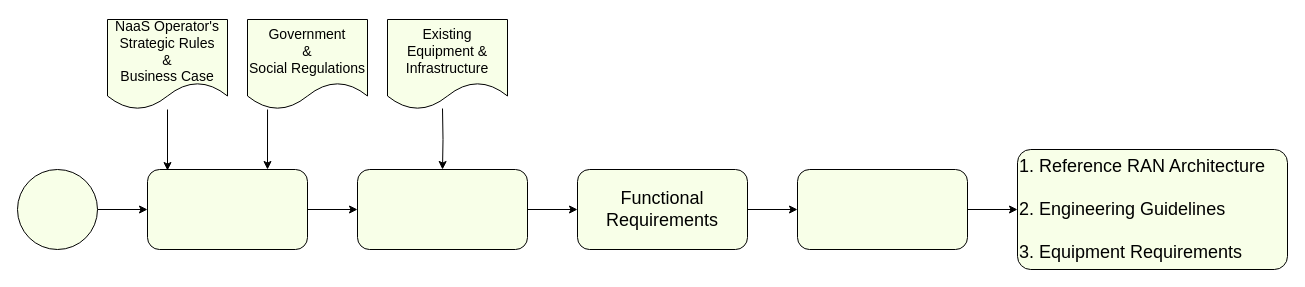
This 1305x287 diagram has some shape labels left out. Each missing label, with the box of its shape:
Engineering Guidelines: (796, 168, 968, 250)
RAN Topology & Scenario Definition: (356, 168, 528, 250)
RF Specifications: (146, 168, 308, 250)
